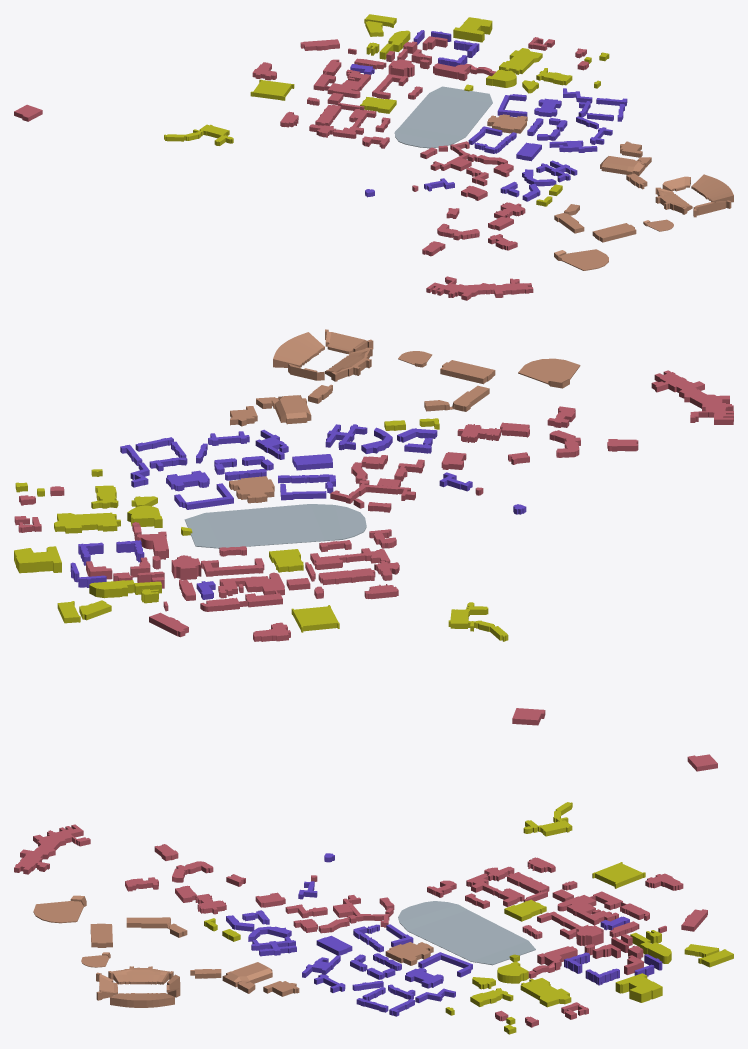
The model's file is tweetsburg-color.glb.
3 views of the same model, one above another, from view 1: azimuth 30°, elevation 25°; view 2: azimuth 150°, elevation 25°; view 3: azimuth 270°, elevation 25° (orthographic). The views are drawn at different scales.
Parts seen in each view (by area): view 1: drillfield, lane_stadium, vet_school, baseball_field, cassell_coliseum, moss_arts_center, inn, torgersen, squires, perry_parking, war_memorial, rector_field_house (+3 smaller); view 2: drillfield, lane_stadium, vet_school, baseball_field, squires, cassell_coliseum, moss_arts_center, inn, military_building, war_memorial, perry_parking, rector_field_house (+9 smaller); view 3: drillfield, lane_stadium, vet_school, baseball_field, cassell_coliseum, moss_arts_center, squires, perry_parking, inn, war_memorial, torgersen, mccomas (+13 smaller).
Part boxes in pixels (box(x1,y1,x2,y2)): drillfield: box(394, 86, 492, 148); lane_stadium: box(655, 174, 733, 217); vet_school: box(426, 276, 533, 300); baseball_field: box(554, 249, 608, 270); cassell_coliseum: box(600, 156, 651, 175); moss_arts_center: box(453, 17, 492, 42); inn: box(164, 124, 233, 145); torgersen: box(433, 63, 495, 80); squires: box(499, 48, 542, 74); perry_parking: box(250, 79, 294, 100); war_memorial: box(487, 114, 527, 133); rector_field_house: box(592, 223, 636, 242); drillfield: box(184, 504, 366, 548); lane_stadium: box(273, 329, 373, 381); vet_school: box(651, 370, 733, 424); baseball_field: box(518, 358, 580, 388); squires: box(54, 512, 120, 533); cassell_coliseum: box(256, 395, 311, 424); moss_arts_center: box(14, 546, 61, 573); inn: box(448, 602, 508, 641); military_building: box(89, 580, 161, 598); war_memorial: box(229, 476, 274, 503); perry_parking: box(291, 605, 339, 632); rector_field_house: box(440, 360, 495, 384); drillfield: box(398, 901, 535, 965); lane_stadium: box(96, 966, 180, 1007); vet_school: box(14, 824, 90, 874); baseball_field: box(33, 895, 86, 923); cassell_coliseum: box(222, 962, 272, 993); moss_arts_center: box(615, 973, 662, 1002); squires: box(520, 978, 571, 1007); perry_parking: box(592, 862, 645, 888); inn: box(523, 802, 572, 836); war_memorial: box(385, 942, 433, 965); torgersen: box(528, 946, 577, 978); mccomas: box(126, 917, 187, 937).
Size of what is drawn, in the model's own units: 45.32 by 0.8471 by 50.05.
